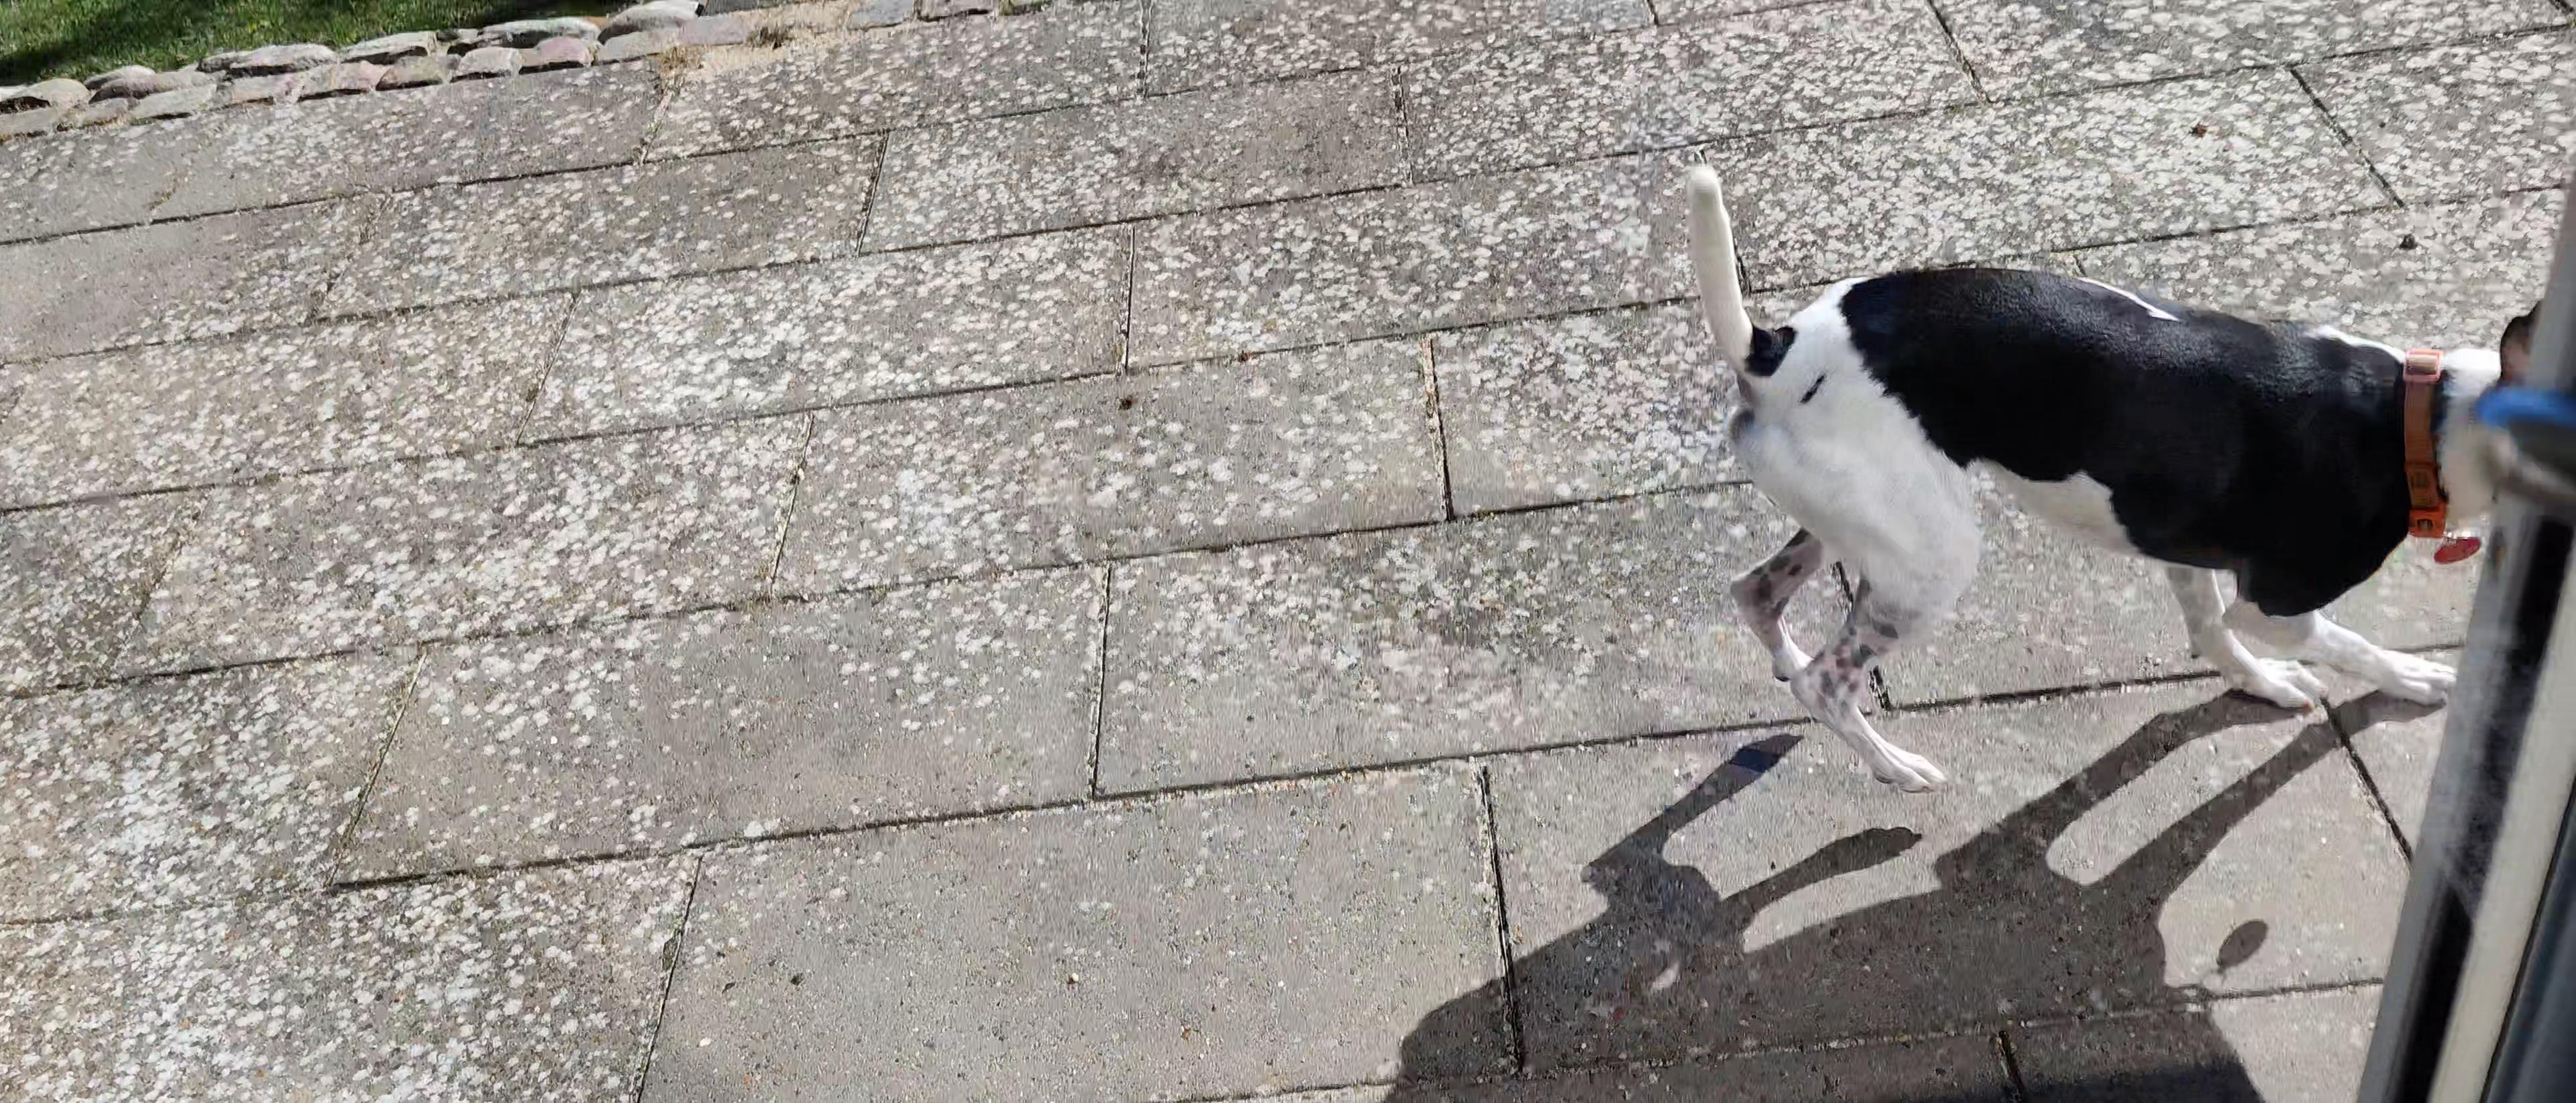Dog: (1640, 122, 2576, 810)
